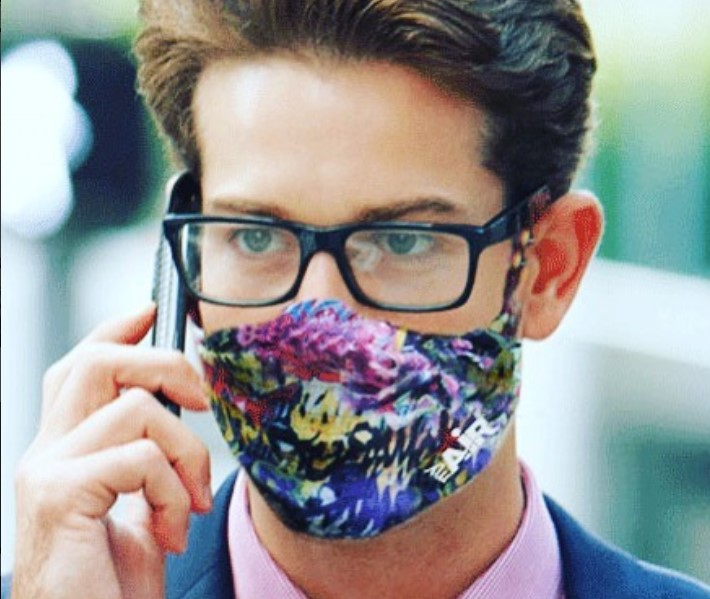face_with_mask: (148, 1, 608, 545)
